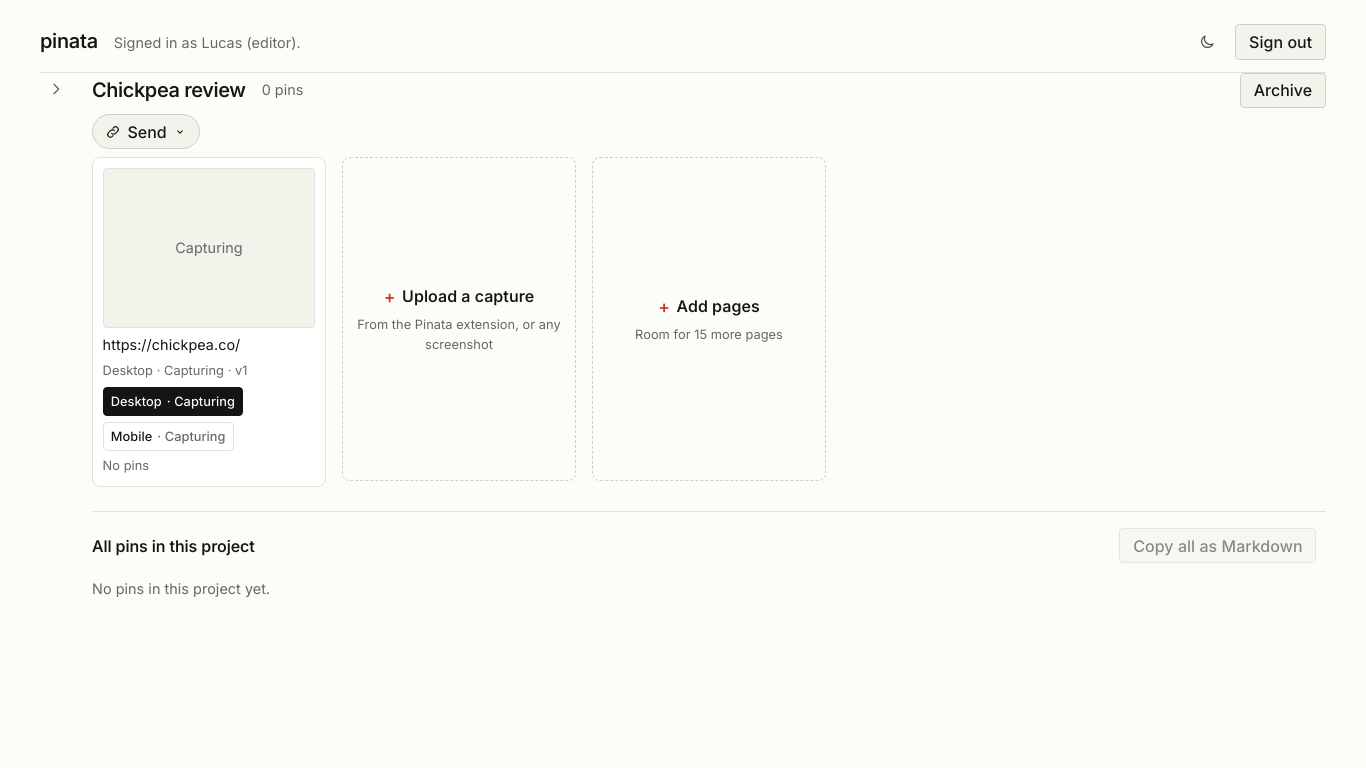
Test: editor project-entry states › a delayed pre-close poll success cannot replace the post-close hierarchy
Click the button "Send". click: (146, 132)
box: [92, 114, 200, 149]
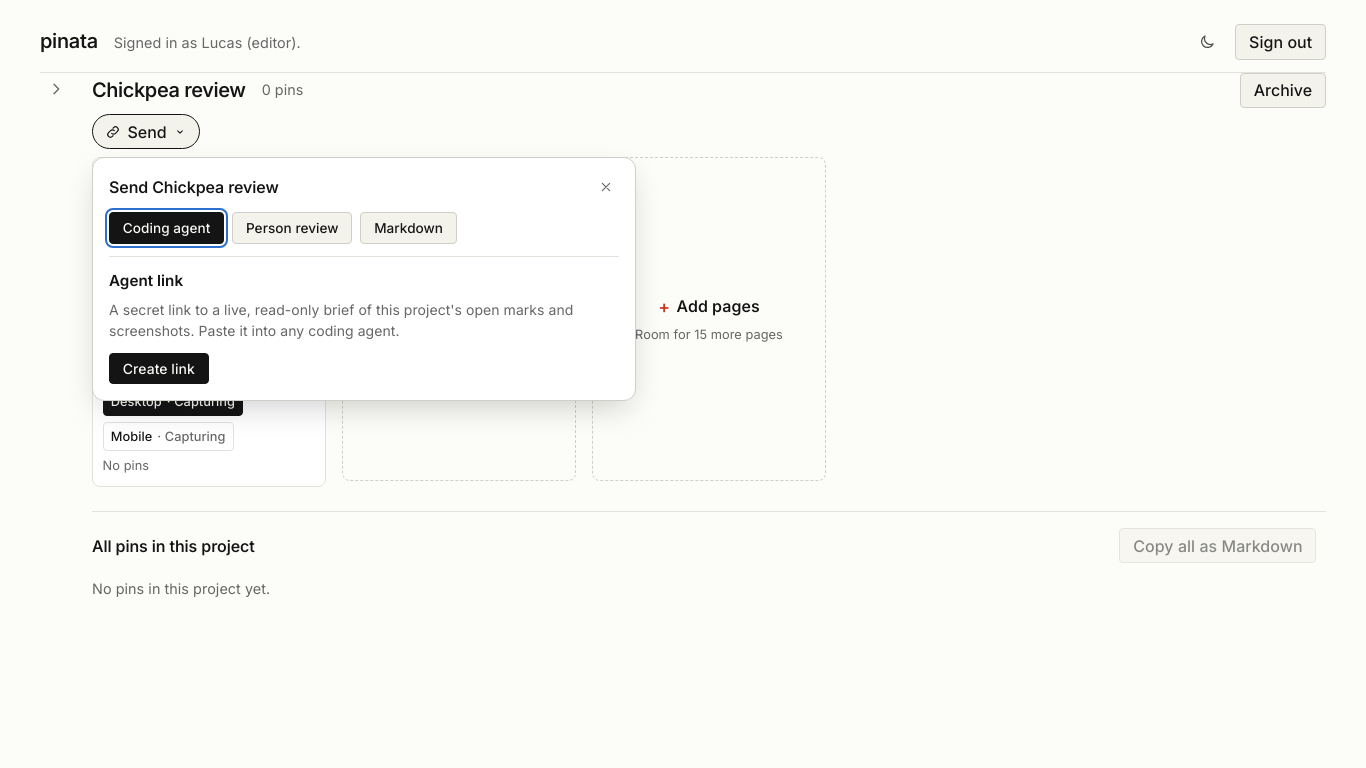
Click the button "Create link". click: (159, 369)
box: [109, 353, 208, 384]
Wait 2000 ms
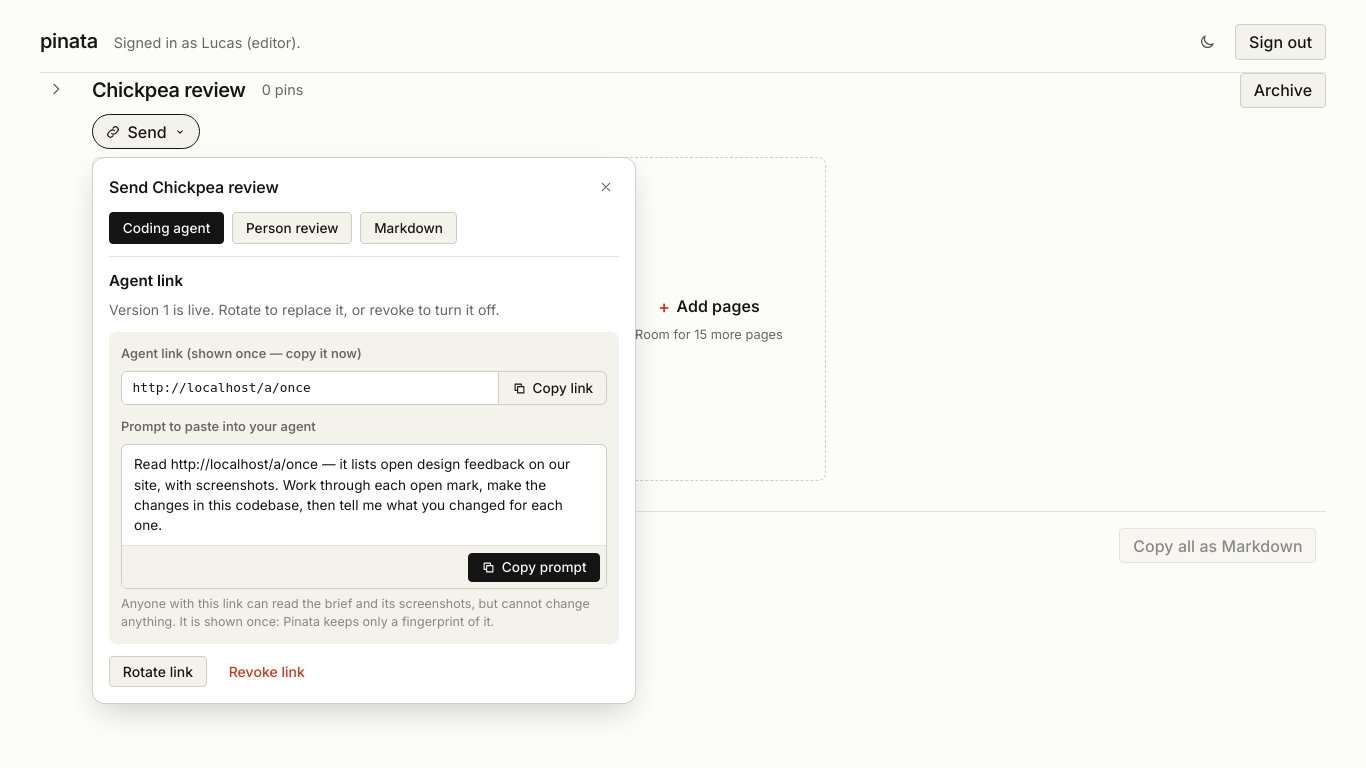
Check: the field labelled "Agent link (shown once — copy it now)" is shown, box [121, 370, 499, 405]
Click the button named "Close Send". click: (606, 187)
box: [593, 174, 619, 200]
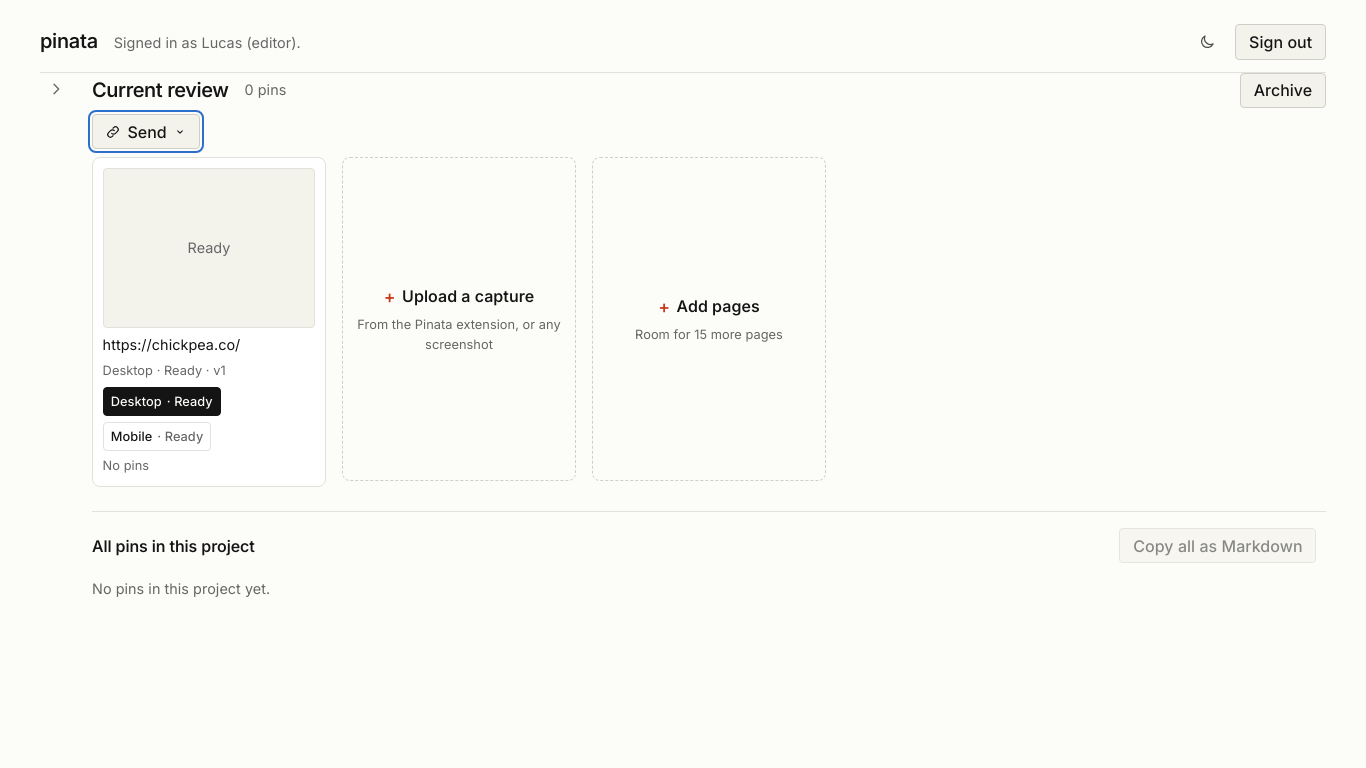
Check: the heading with test id "project-title" reads "Current review", box [92, 78, 228, 102]
Click the button "Send". click: (146, 132)
box: [92, 114, 200, 149]
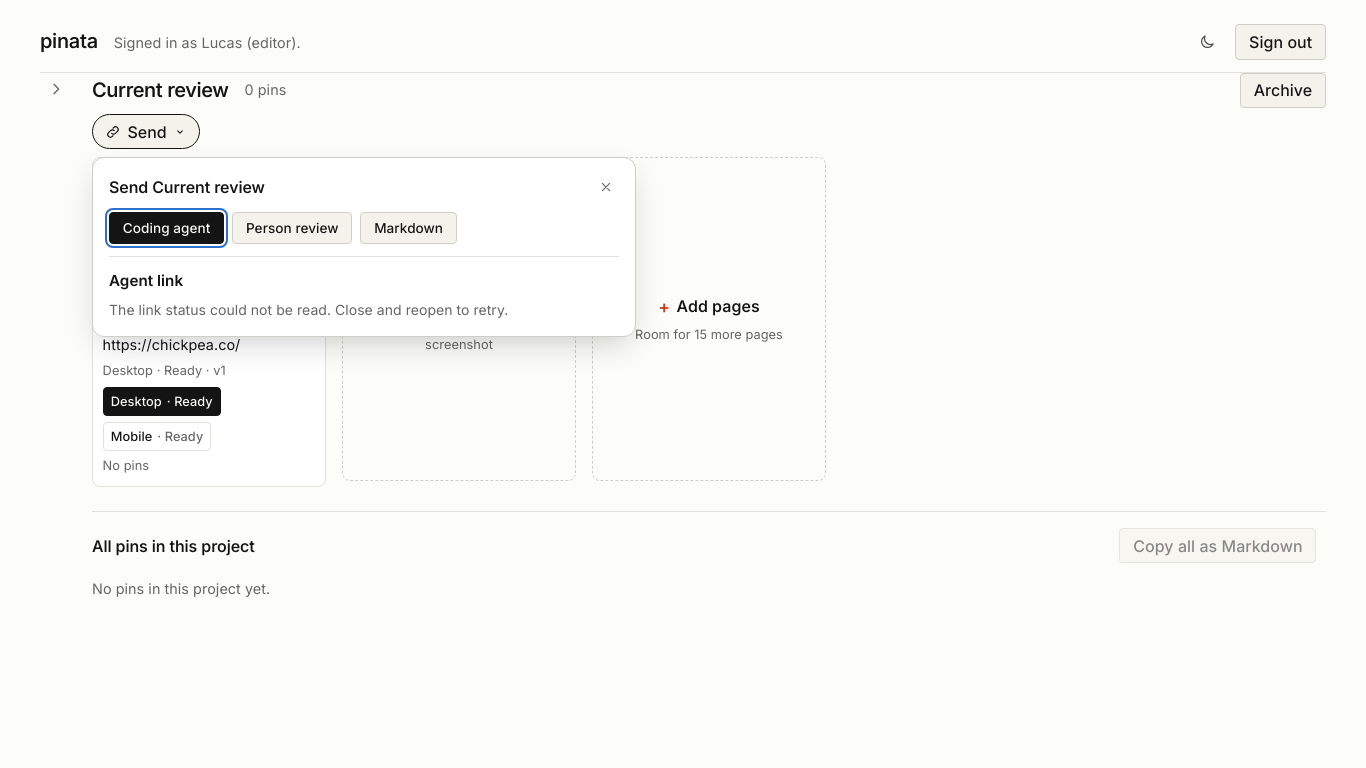
Check: the dialog "Send Current review" is shown, box [92, 157, 636, 337]
